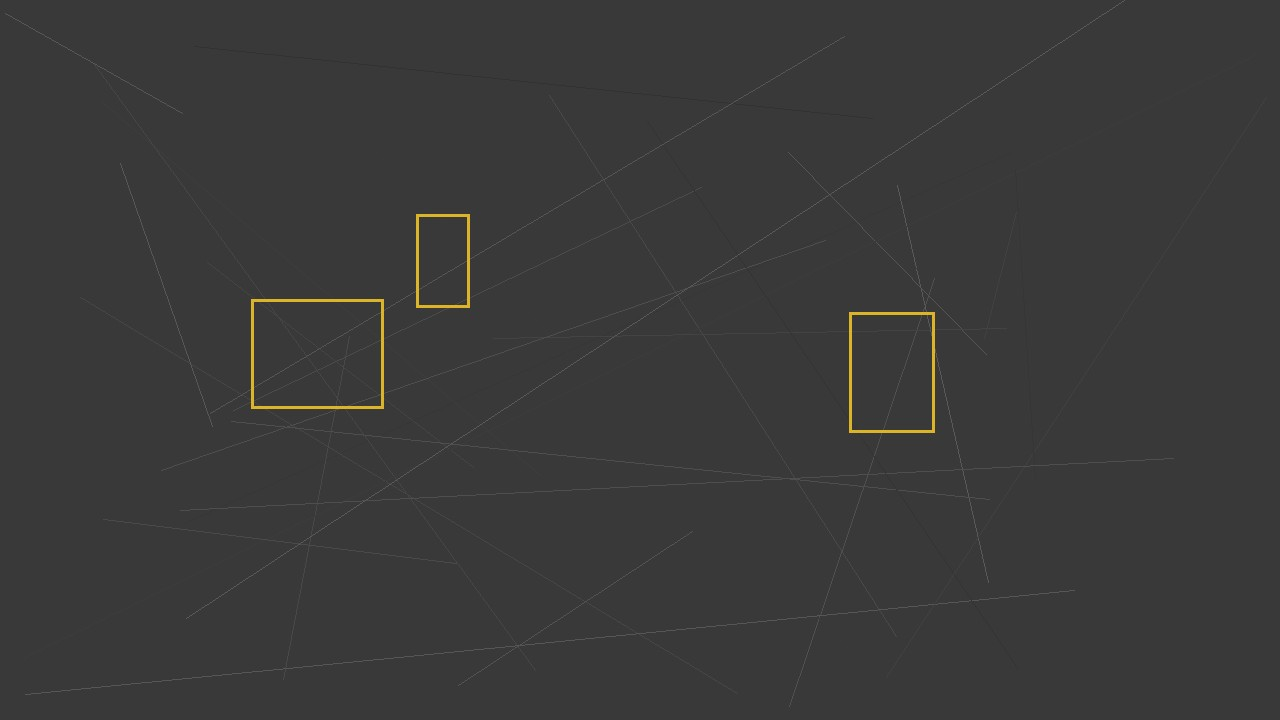D00: (251, 299, 383, 408), (849, 312, 934, 432)
D10: (416, 214, 469, 307)
